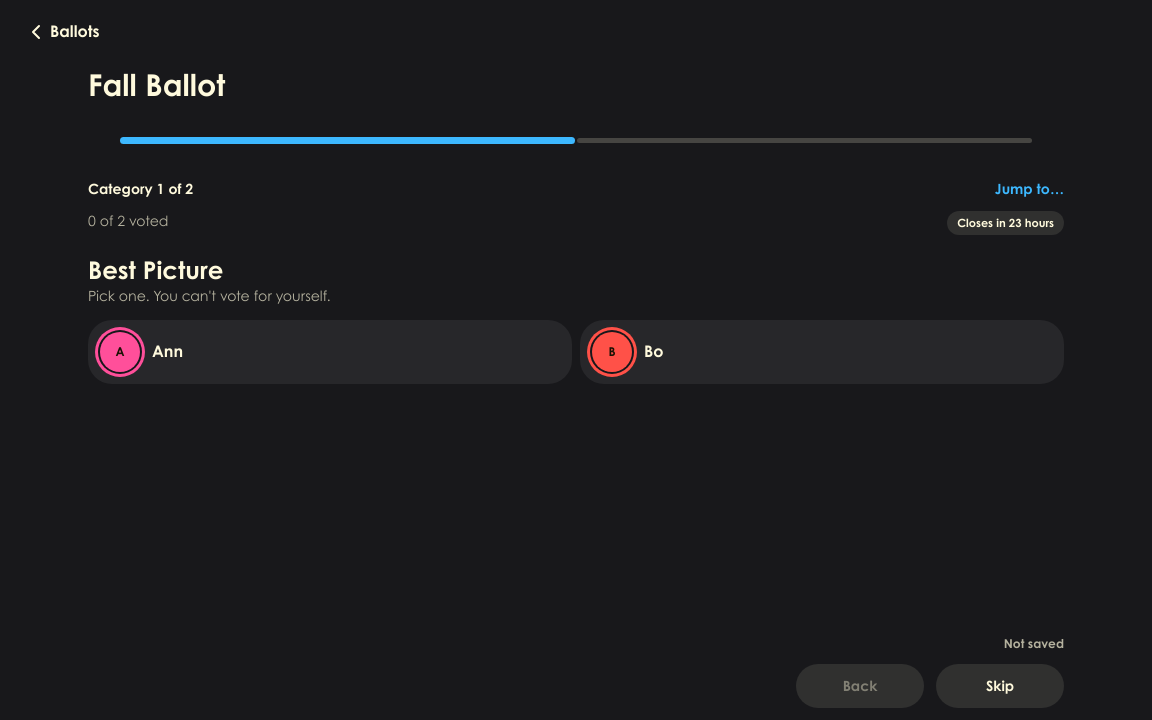
VotePage one-per-page flow › shows Category N of M and a Jump to... link
Expected: the element "Best Picture" is shown, [88,255,1064,384]
Expected: the text "Category 1 of 2" is shown, [88,179,193,199]
Click the button "Jump to…" at (1029, 189), box [975,167,1084,211]
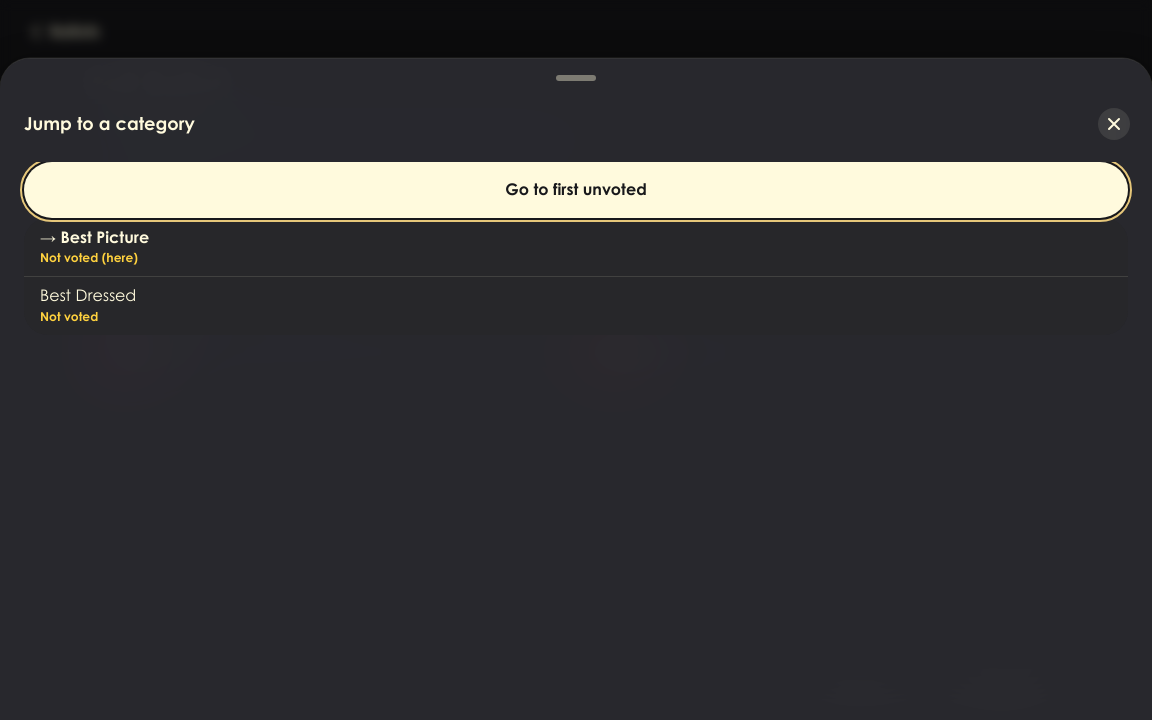
Expected: the button "Go to first unvoted" is shown, [24,162,1128,218]
